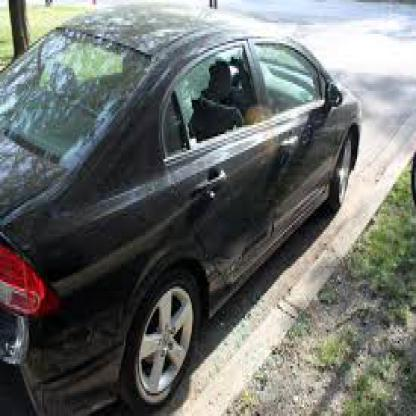dent: (237, 235, 258, 267)
